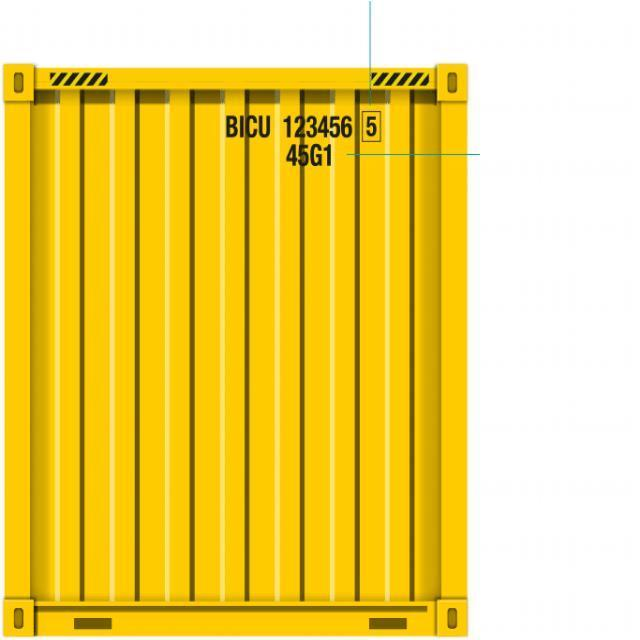container_number_h: (222, 108, 384, 169)
